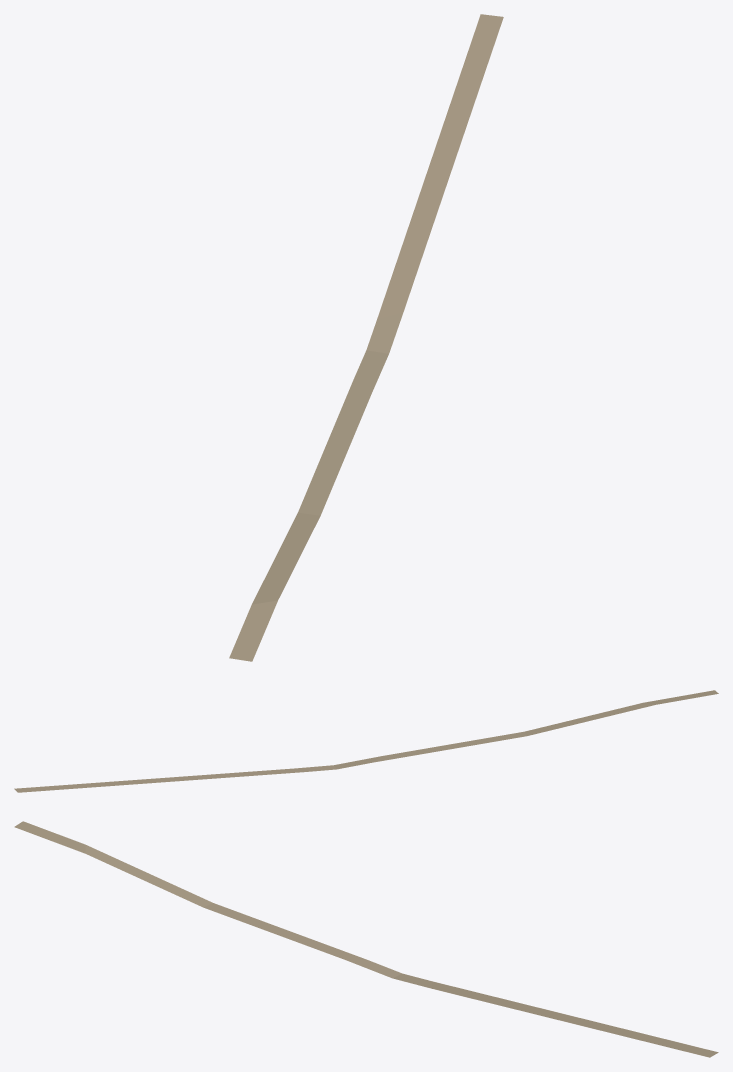
The model's file is farm_-30_-30_track.glb.
3 views of the same model, one above another, from view 1: azimuth 30°, elevation 25°; view 2: azimuth 150°, elevation 25°; view 3: azimuth 270°, elevation 25° (orthographic). The views are drawn at different scales.
Parts seen in each view (by area): view 1: geometry_0; view 2: geometry_0; view 3: geometry_0.
Boxes of the visible parts, x1,y1,x2,y2 form: geometry_0: [229, 14, 503, 661]; geometry_0: [14, 690, 718, 792]; geometry_0: [14, 821, 718, 1057].
Size of the model in its own units: 136 by 8.35 by 163.
